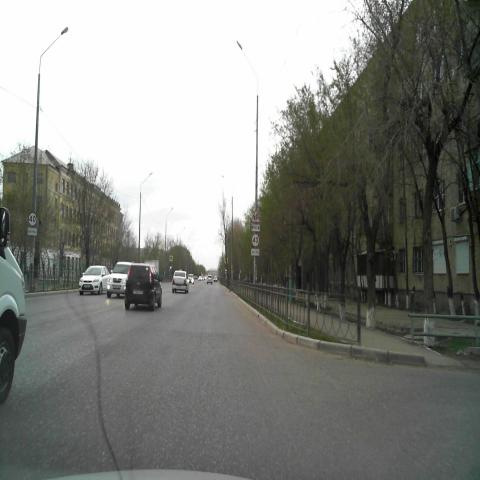1_23: (251, 208, 260, 222)
3_24: (28, 210, 37, 226), (251, 233, 259, 247)
8_2_1: (252, 223, 260, 232)
